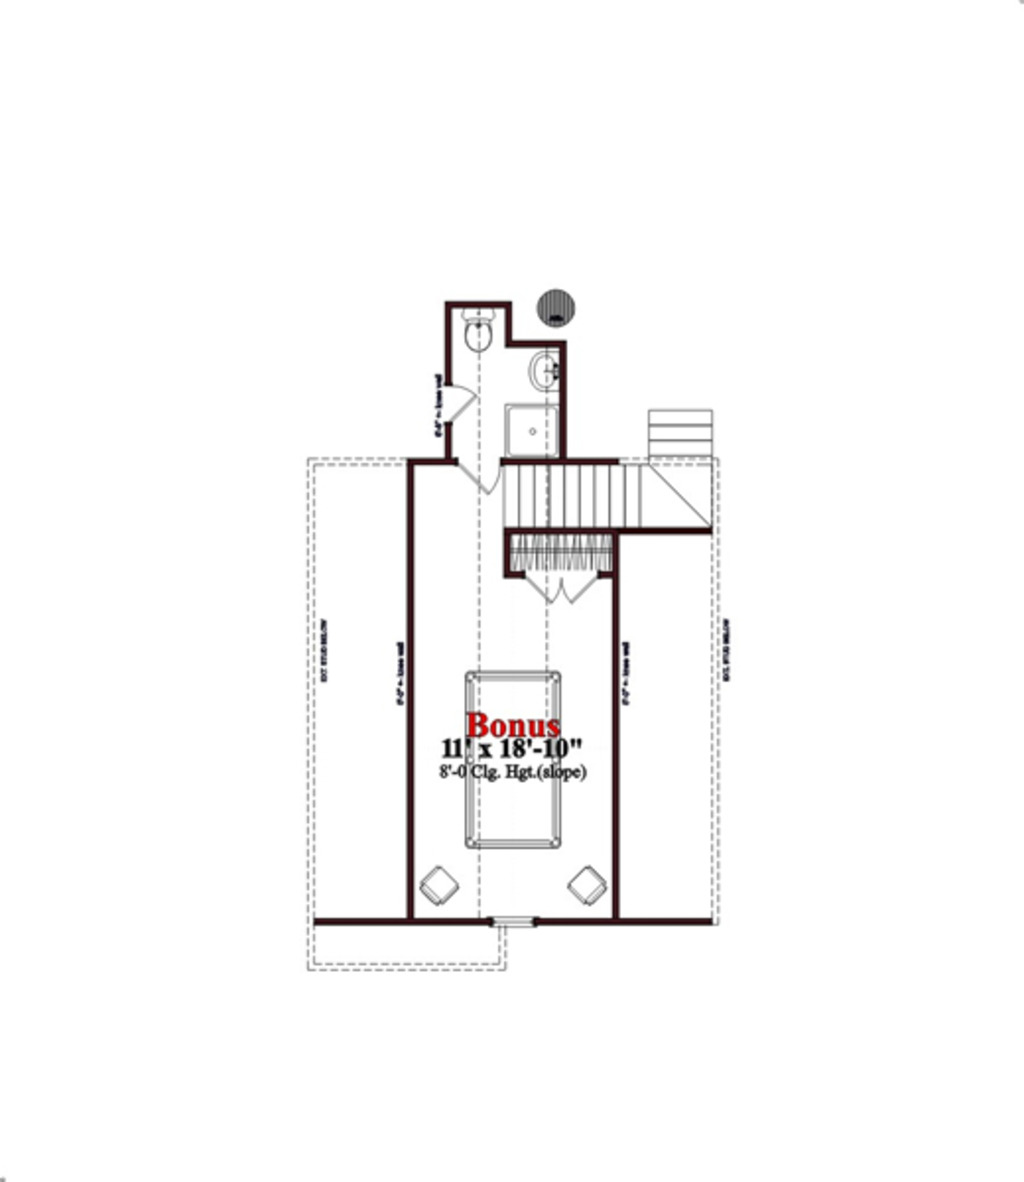door: (532, 569, 592, 610), (453, 460, 503, 497), (441, 386, 476, 426)
large_sink: (457, 306, 503, 361)
small_sink: (519, 346, 566, 396)
stairs: (499, 391, 733, 536)
window: (485, 910, 535, 931)
